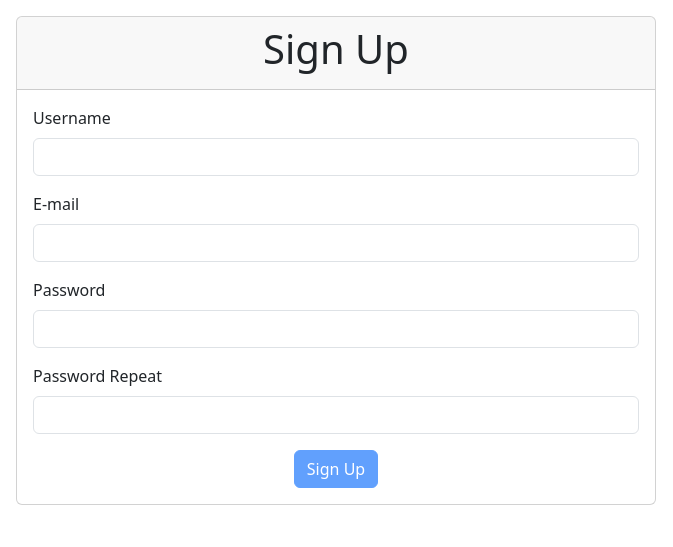
Test case: Sign Up Page › Interactions › displays Password cannot be null for password
Type "user1" into the field labelled "Username" at (336, 157), box left=33, top=138, right=639, bottom=176
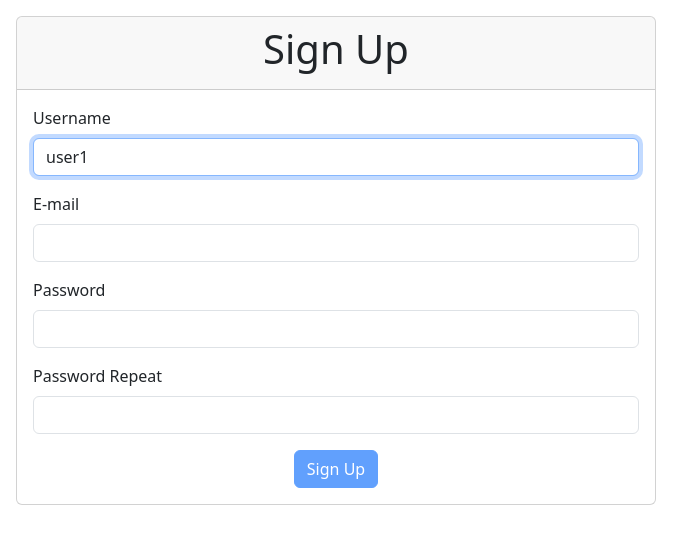
Type "user1@mail.com" into the field labelled "E-mail" at (336, 243), box left=33, top=224, right=639, bottom=262
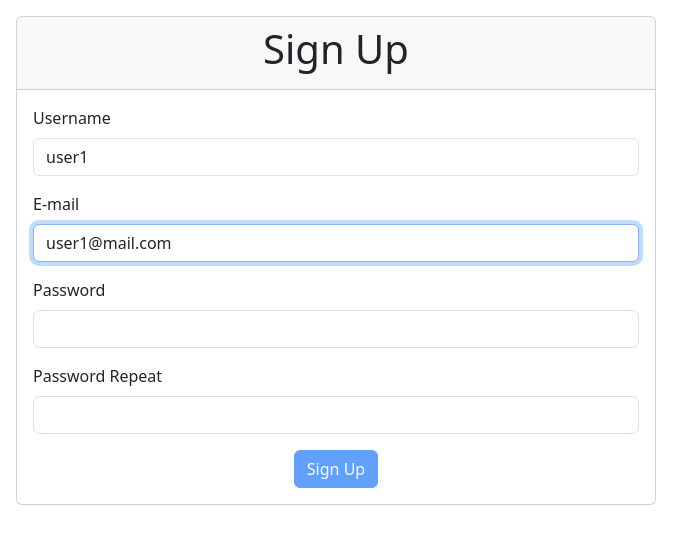
Type "P4ssword" into the password field labelled "Password" at (336, 329), box left=33, top=310, right=639, bottom=348
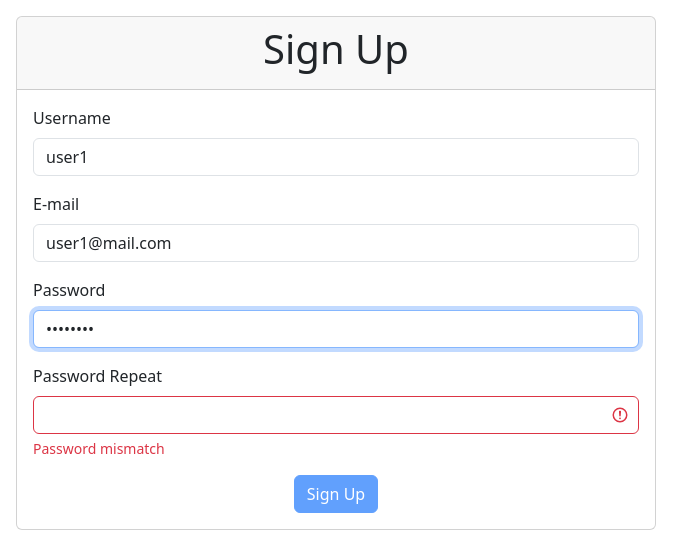
Type "P4ssword" into the password field labelled "Password Repeat" at (336, 415), box left=33, top=396, right=639, bottom=434
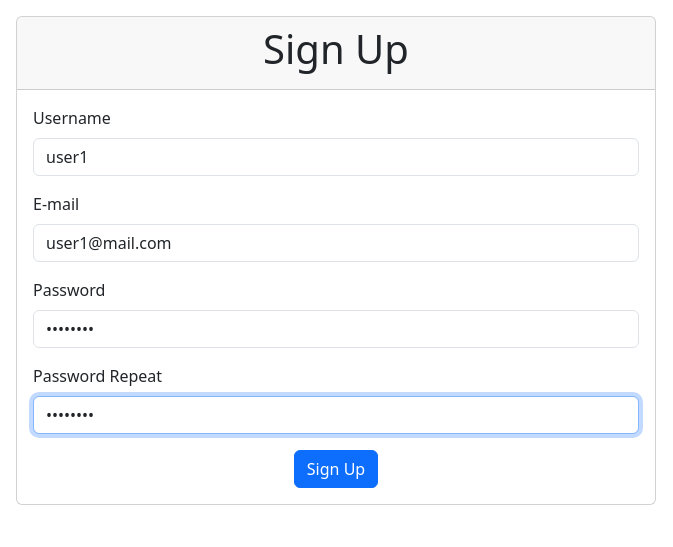
Click the button "Sign Up" at (336, 469), box left=294, top=450, right=378, bottom=488
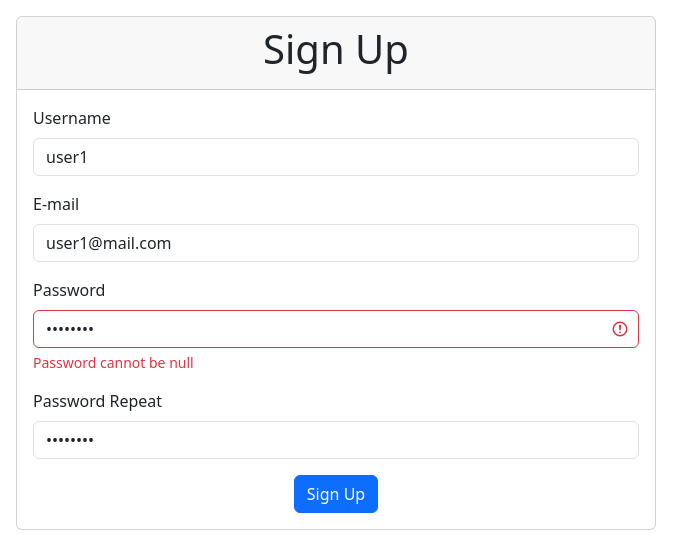
Expected: the text "Password cannot be null" is shown, left=33, top=353, right=194, bottom=372
